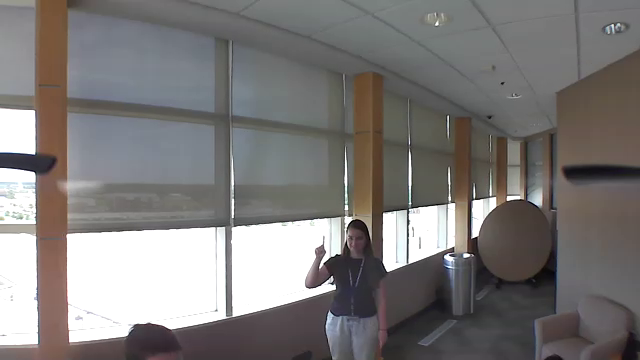up: (311, 232, 328, 260)
